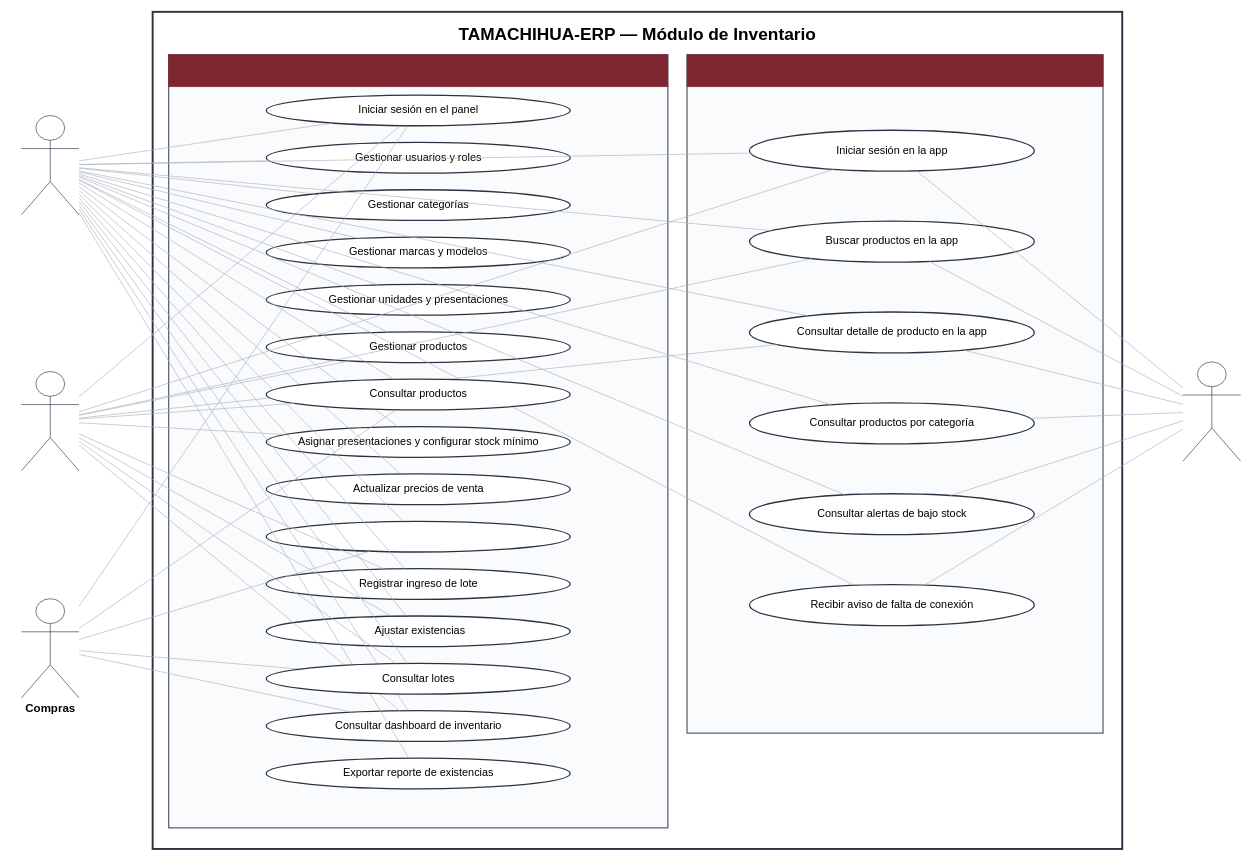
The diagram is 1252 pixels wide and 861 high, and some of its shapes have lost their labels. The shapes that lost their labels are listed below. From the top down, each one's box as (x1, y1, x2, y2) in pixels, then its label:
(168, 54, 668, 87): PANEL WEB (VUE)
(686, 54, 1103, 87): APP MÓVIL (IONIC)
(21, 115, 79, 215): Administrador
(21, 371, 79, 471): Bodega
(1182, 361, 1241, 461): Vendedor
(265, 520, 571, 552): Gestionar proveedores
